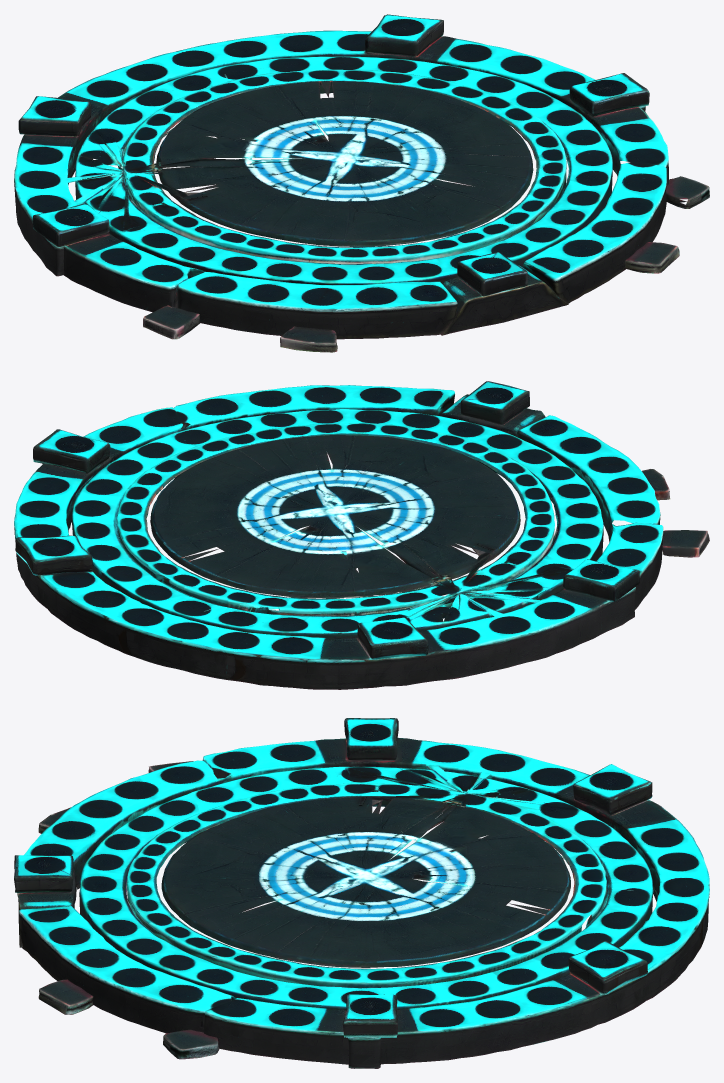
The model's file is moon-arena.glb.
The picture shows the model from 3 angles, top to bottom: view 1: azimuth 30°, elevation 25°; view 2: azimuth 150°, elevation 25°; view 3: azimuth 270°, elevation 25°; orthographic projection. The views are drawn at different scales.
Bounding box in the file's own units: 1 × 0.079 × 0.9723.
1 material, 1 textured.
